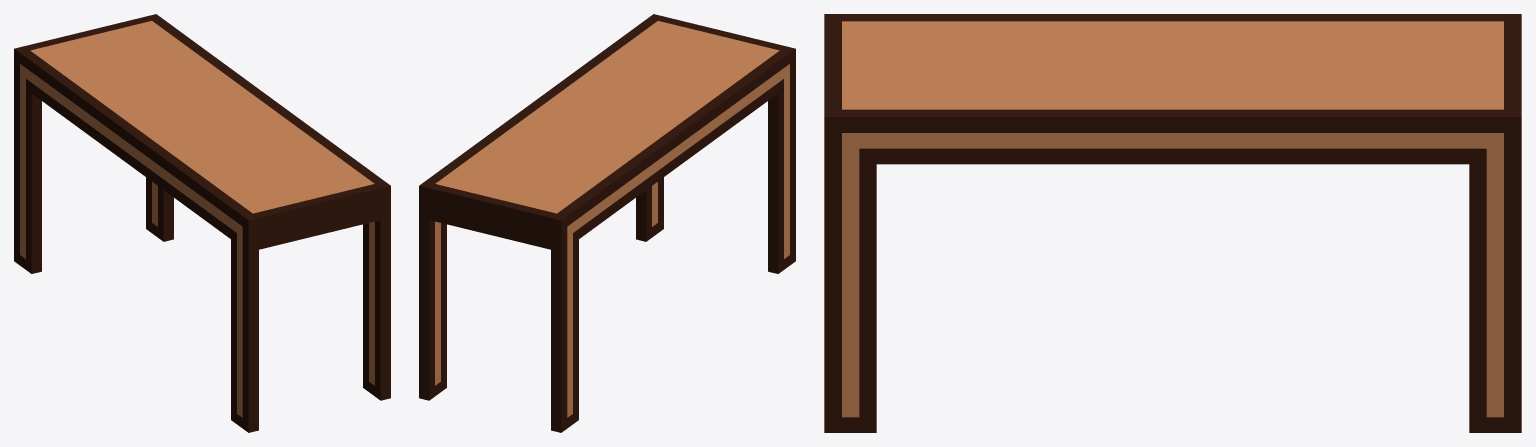
File: worktable2.obj
3 views of the same model, side by side, from view 1: azimuth 30°, elevation 25°; view 2: azimuth 150°, elevation 25°; view 3: azimuth 270°, elevation 25° (orthographic). The views are drawn at different scales.
Size of the model in its own units: 1.4 by 2 by 4.
Materials: 1 (1 with a texture image).
